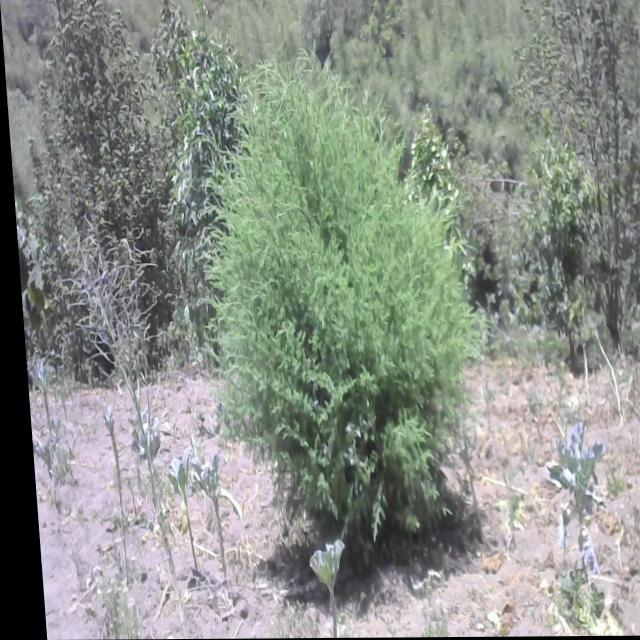Hass Avocado: (499, 107, 598, 365)
Lemon Myrtle: (160, 18, 263, 341), (392, 107, 465, 249)
cedrus: (202, 49, 490, 560)
other: (504, 0, 640, 334), (23, 4, 151, 354)
